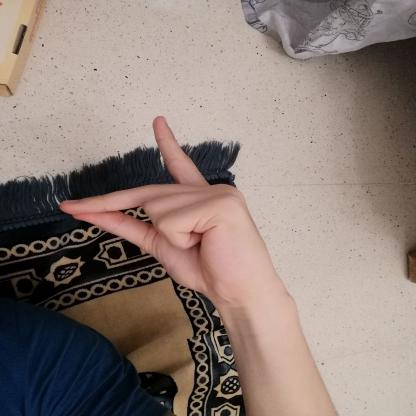TAA: (47, 110, 295, 311)
